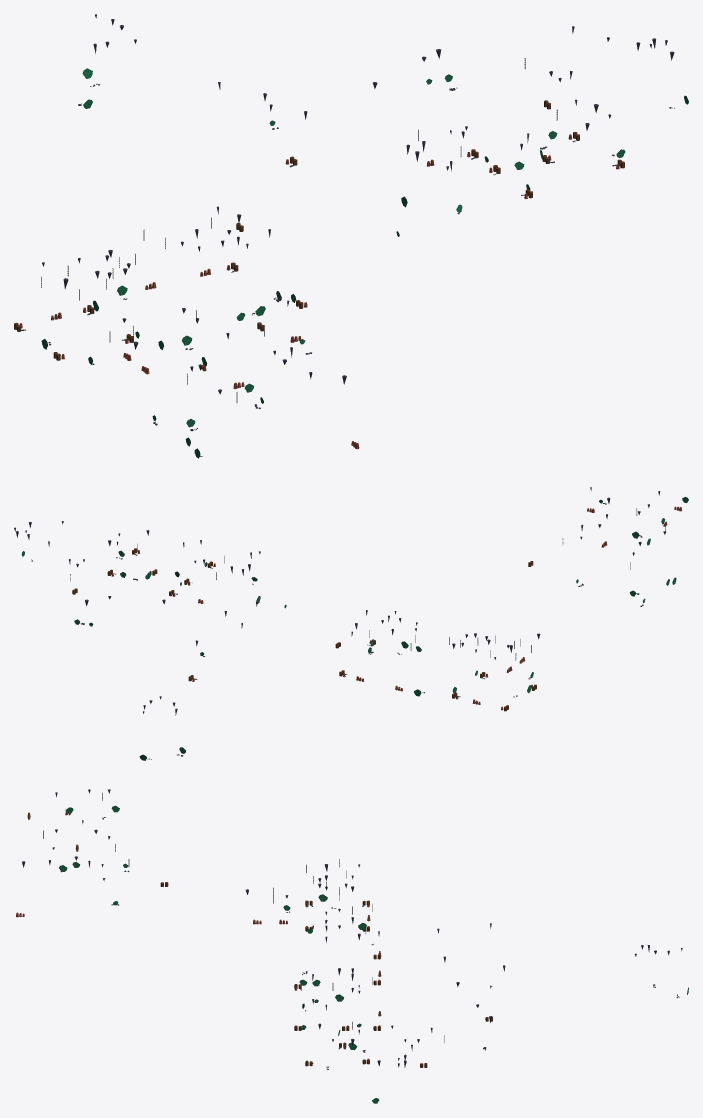
The model's file is BlueImpact_Decor.fbx.
The picture shows the model from 3 angles, top to bottom: view 1: azimuth 30°, elevation 25°; view 2: azimuth 150°, elevation 25°; view 3: azimuth 270°, elevation 25°; orthographic projection. The views are drawn at different scales.
Bounding box in the file's own units: 135 × 28.21 × 154.
Materials: 5 (5 with a texture image).
